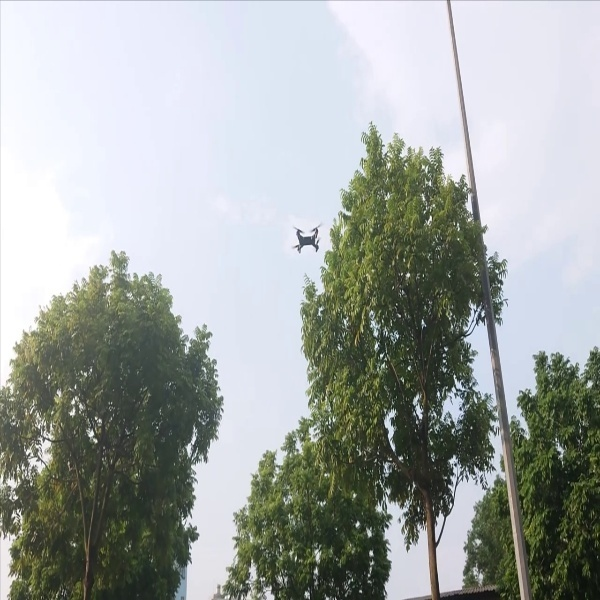drone: (284, 213, 330, 261)
